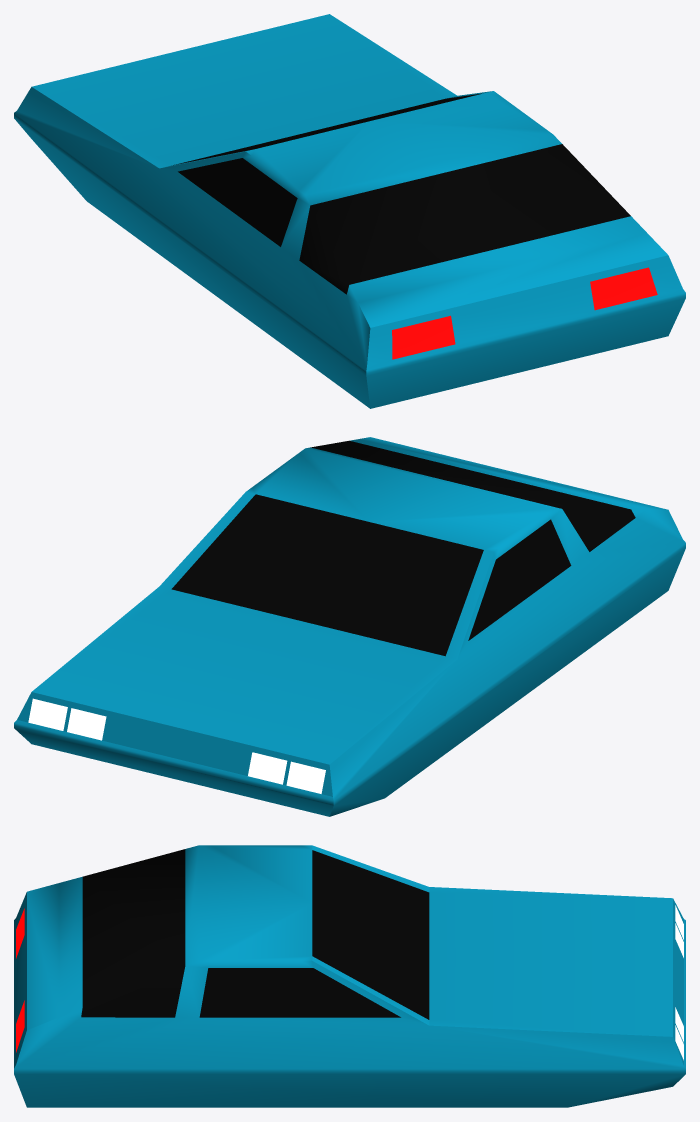
The model's file is car.glb.
The picture shows the model from 3 angles, top to bottom: view 1: azimuth 30°, elevation 25°; view 2: azimuth 150°, elevation 25°; view 3: azimuth 270°, elevation 25°; orthographic projection. The views are drawn at different scales.
Parts seen in each view (by area): view 1: Cube1; view 2: Cube1; view 3: Cube1.
Part boxes in pixels (bbox=[...]): Cube1: bbox=[14, 14, 685, 408]; Cube1: bbox=[14, 437, 685, 816]; Cube1: bbox=[14, 845, 685, 1107].
Size of the model in its own units: 4.71 by 2 by 9.
